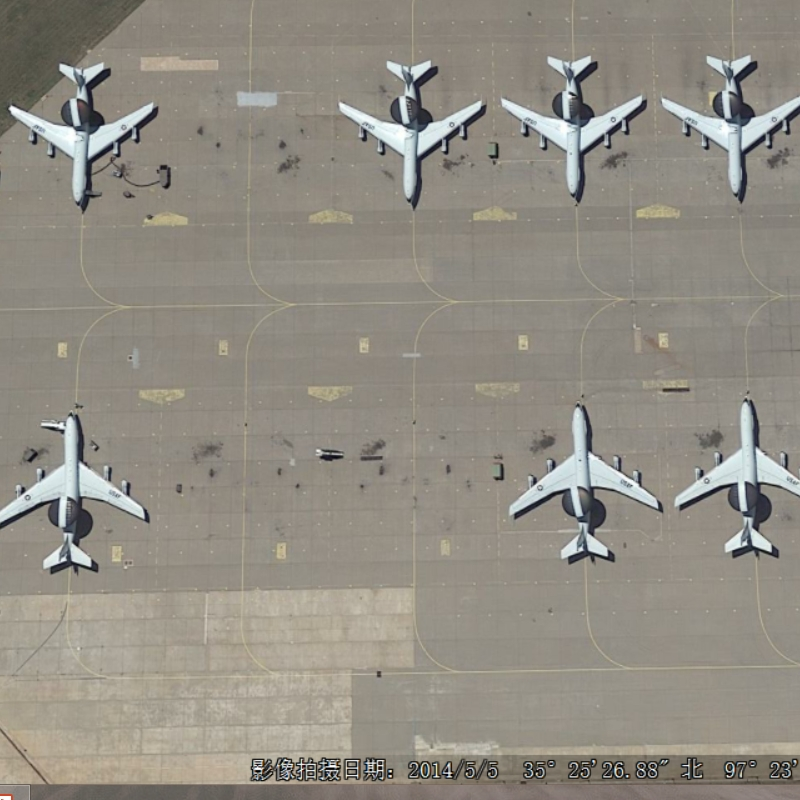A7: (1, 400, 156, 577), (503, 398, 666, 563), (5, 55, 167, 214), (331, 52, 491, 211), (498, 50, 659, 205), (670, 389, 800, 568), (657, 50, 800, 206)
